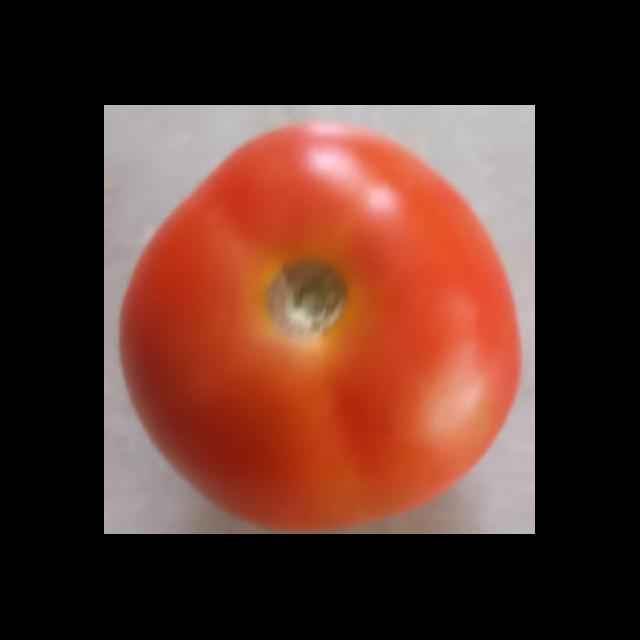tomato: (118, 112, 523, 519)
